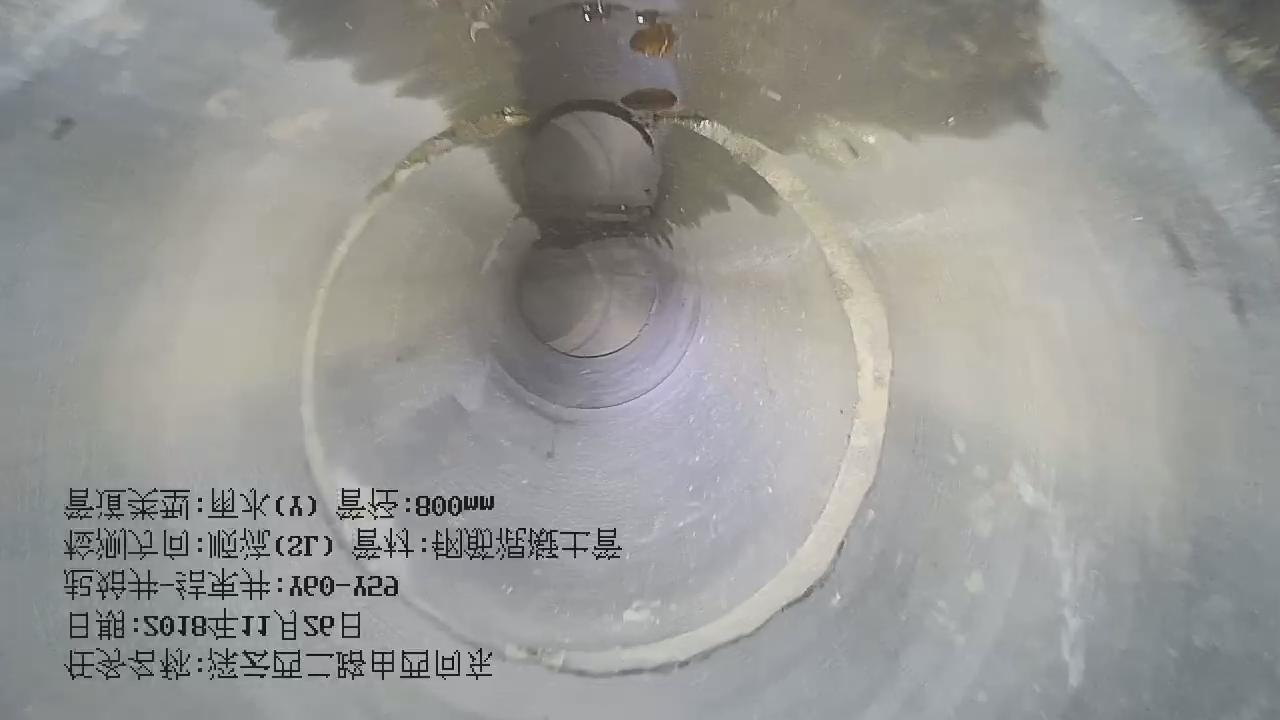CKTJ: (289, 92, 898, 682)
